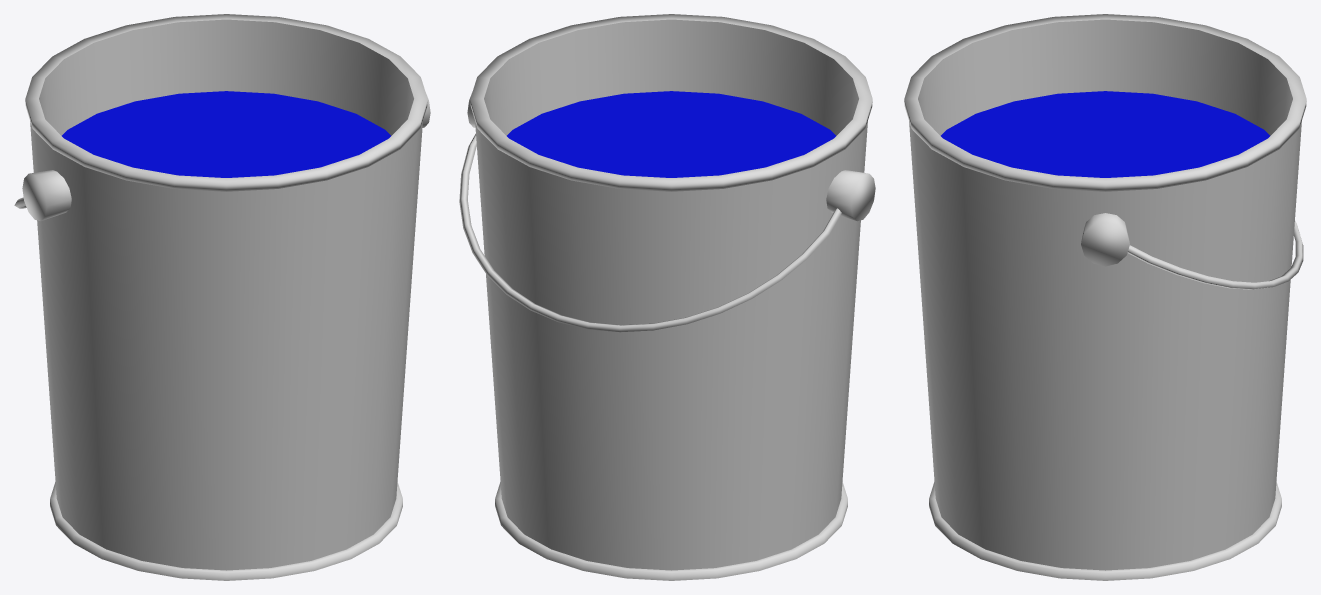
File: PaintBucket.fbx
The picture shows the model from 3 angles, left to right: view 1: azimuth 30°, elevation 25°; view 2: azimuth 150°, elevation 25°; view 3: azimuth 270°, elevation 25°; orthographic projection.
Visible parts, largest first — view 1: Paint bucket; view 2: Paint bucket; view 3: Paint bucket.
Boxes of the visible parts, left/top/right/bottom form: Paint bucket: left=14, top=14, right=430, bottom=580; Paint bucket: left=459, top=14, right=875, bottom=580; Paint bucket: left=904, top=14, right=1306, bottom=580.
Bounding box in the file's own units: 0.2214 × 0.2247 × 0.2011.
